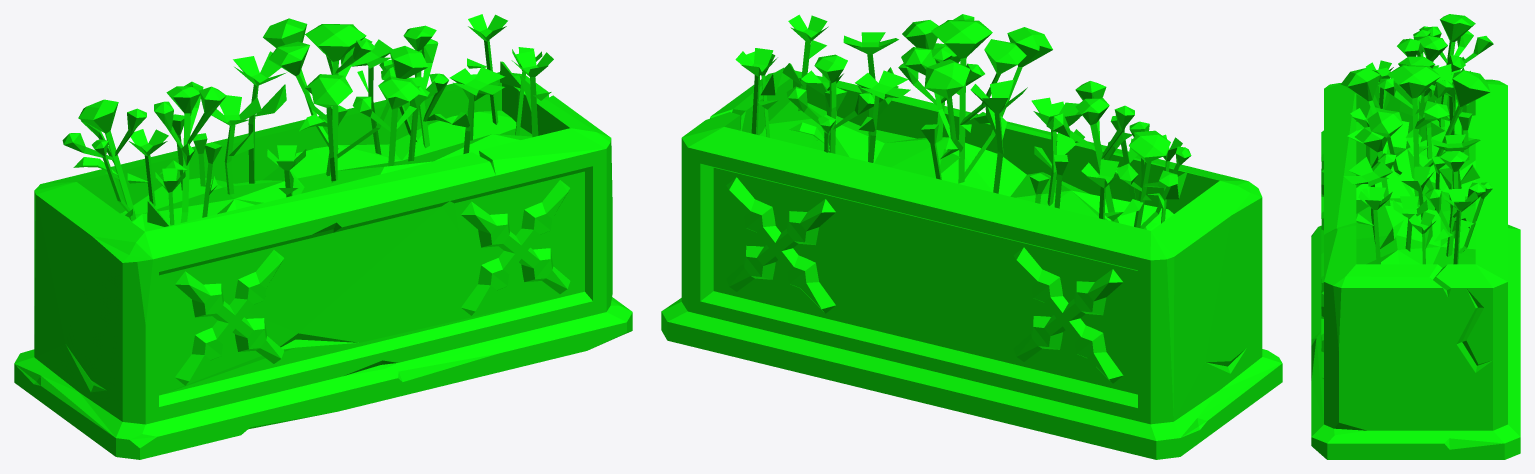
Rendered from SM_Flower_Box_Stone_Wide_Street_B_Fantasy.fbx.
The picture shows the model from 3 angles, left to right: view 1: azimuth 30°, elevation 25°; view 2: azimuth 150°, elevation 25°; view 3: azimuth 270°, elevation 25°; orthographic projection. The views are drawn at different scales.
Visible parts, largest first — view 1: flower-box-stone-wide-street-b-fantasy; view 2: flower-box-stone-wide-street-b-fantasy; view 3: flower-box-stone-wide-street-b-fantasy.
Part boxes in pixels (x1,y1,x2,y2): flower-box-stone-wide-street-b-fantasy: (14,14,632,459); flower-box-stone-wide-street-b-fantasy: (661,14,1282,459); flower-box-stone-wide-street-b-fantasy: (1311,14,1520,459).
Bounding box in the file's own units: 1.3 × 0.7881 × 0.5237.
